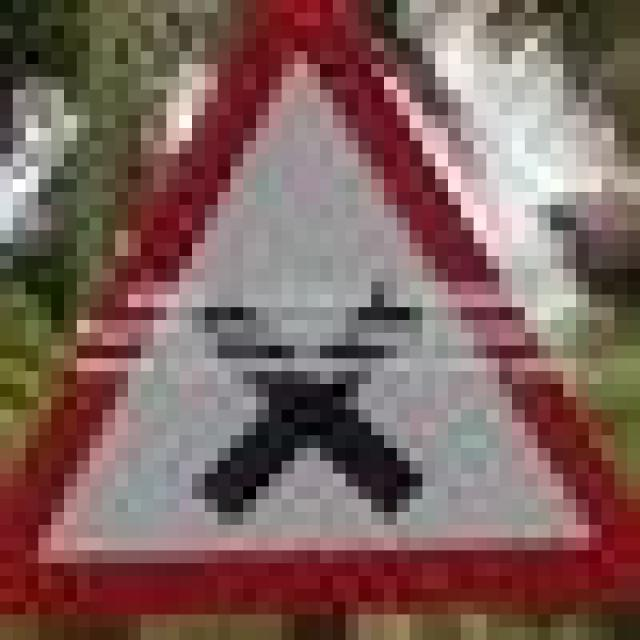cross_road: (0, 0, 627, 627)
